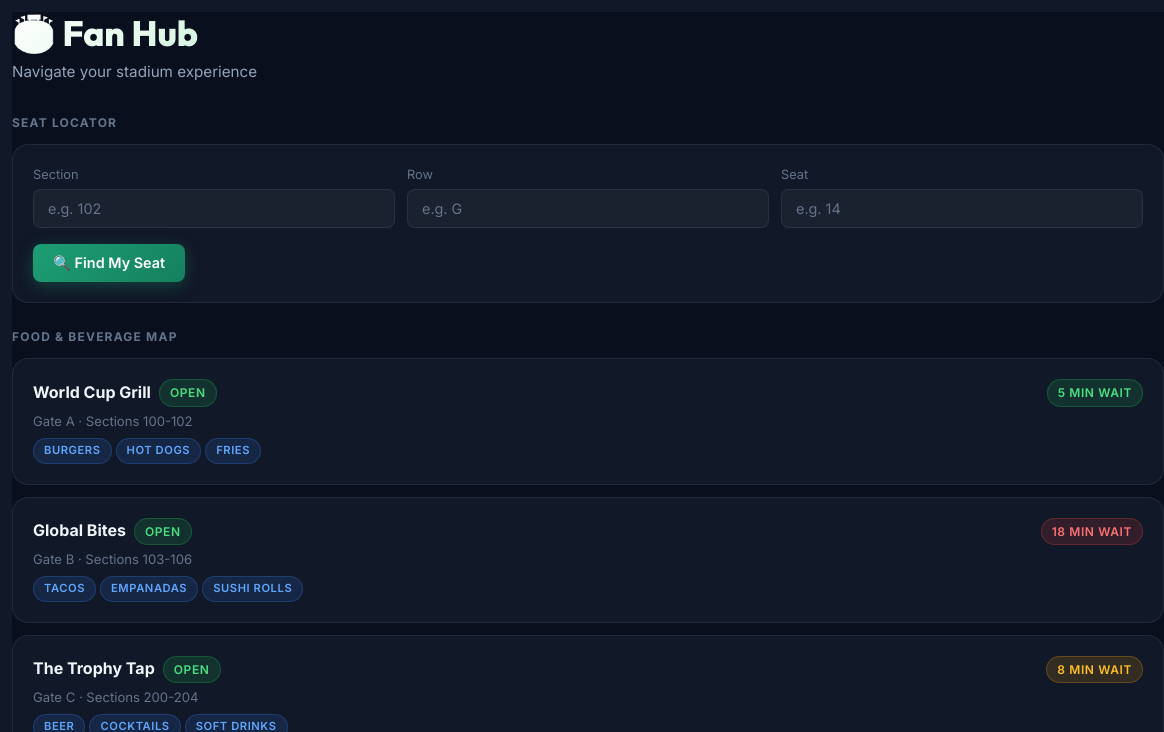
FanHub › shows error for unknown section
The image size is (1164, 732).
Step 1. Type "999" into the field named "section number" → (214, 209), box left=33, top=189, right=395, bottom=228
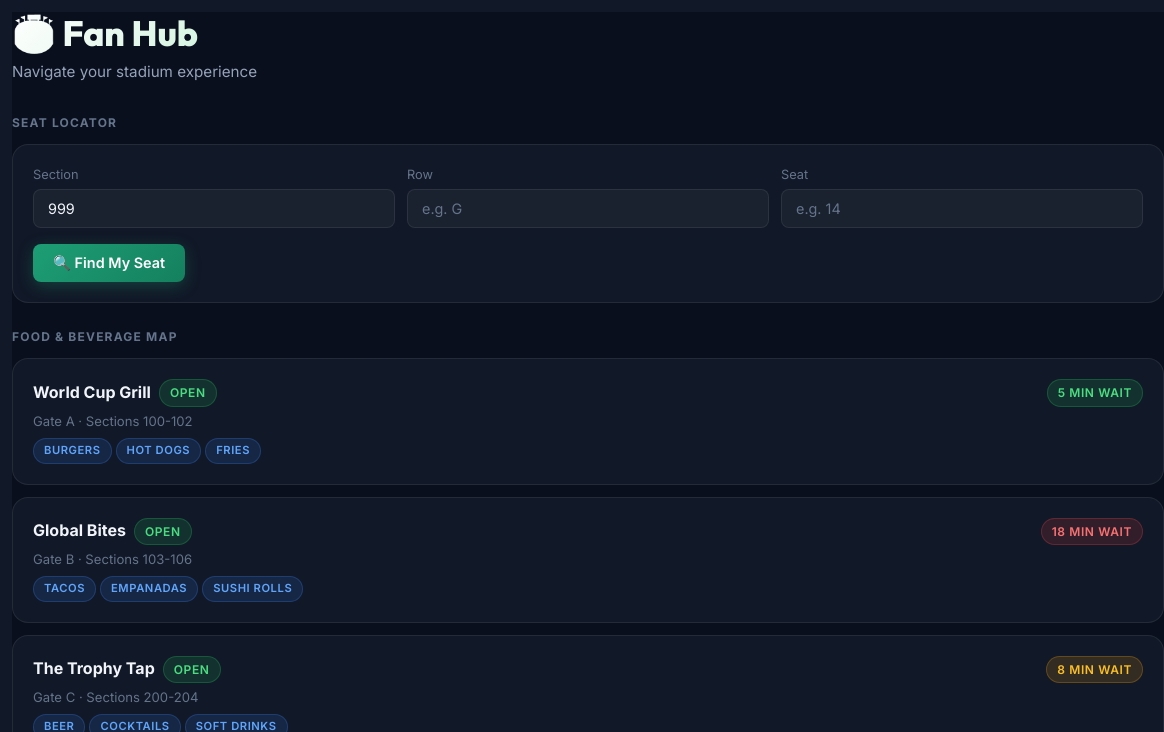
Step 2. Click the button "🔍 Find My Seat" → (109, 263), box left=33, top=244, right=185, bottom=282
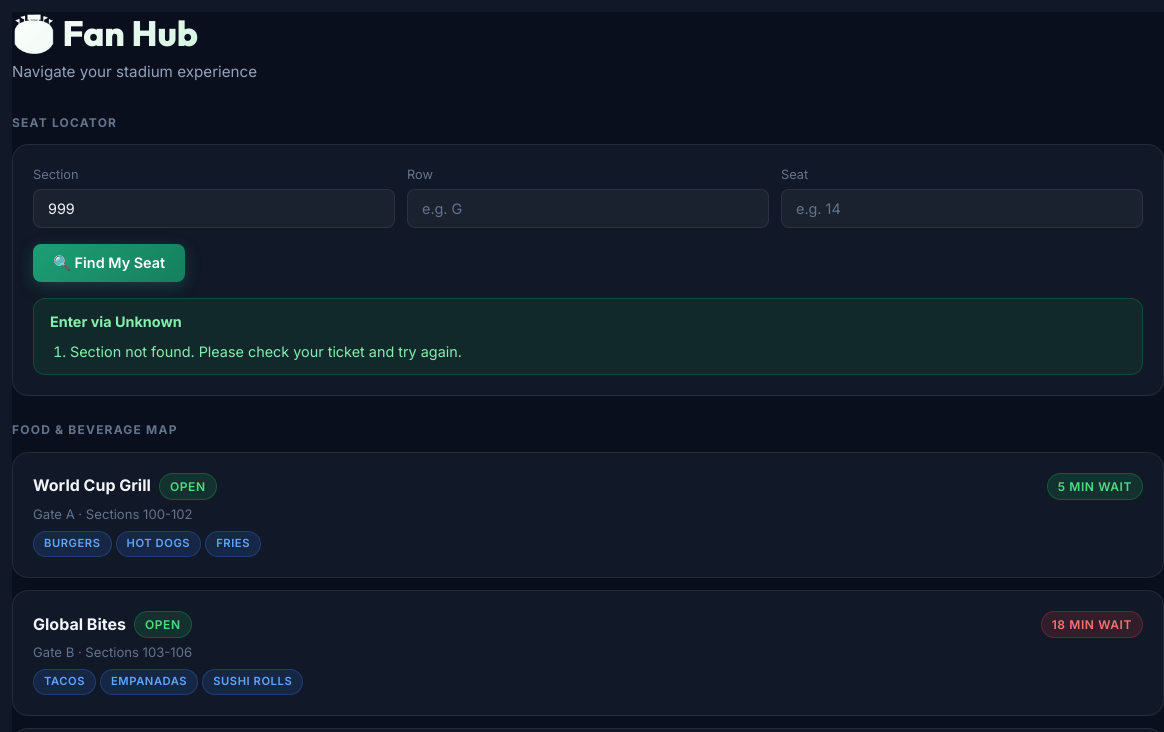
Expected: the list item "Section not found. Please check your ticket and try again." is shown, left=70, top=341, right=462, bottom=362
